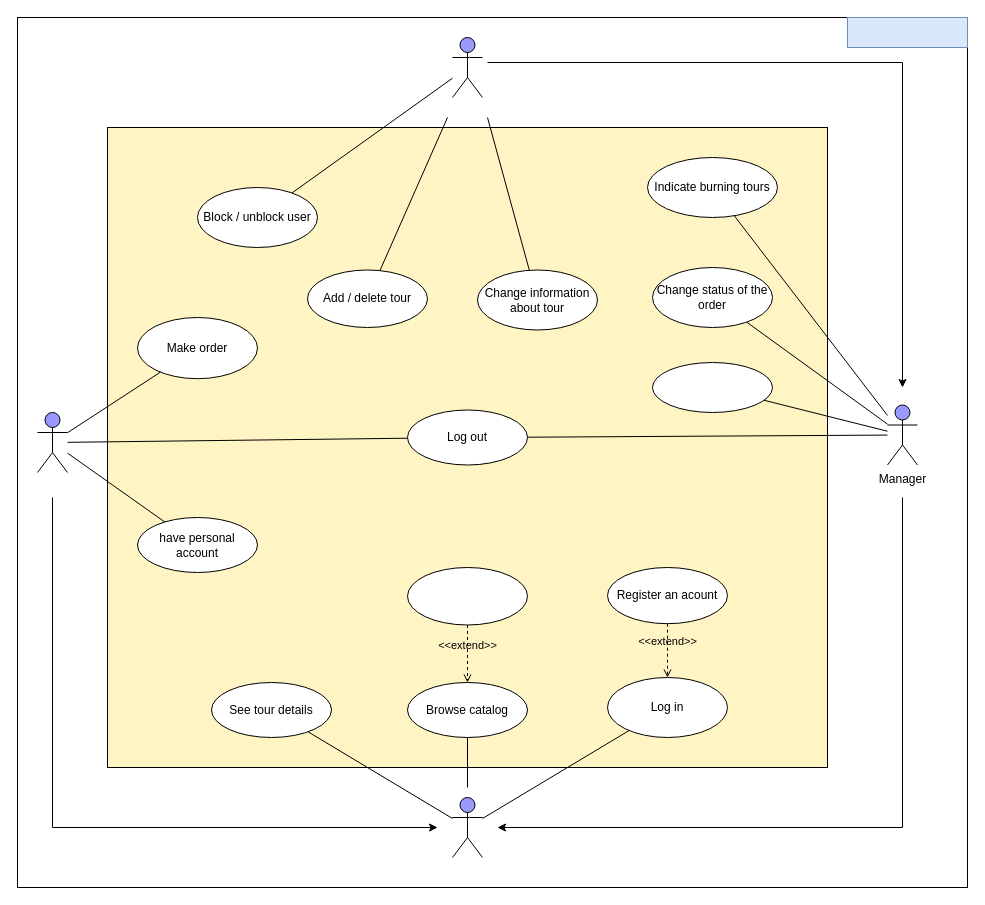
Some shapes in this 985 by 905 pixel diagram are drawn without their labels. Each missing label, with the centre of its shape:
"Admin" belongs at point 467,67.
"Filter catalog" belongs at point 467,595.
"Guest" belongs at point 467,827.
"Set discount info" belongs at point 712,387.
"Travel agency" belongs at point 907,32.
"User" belongs at point 52,442.
